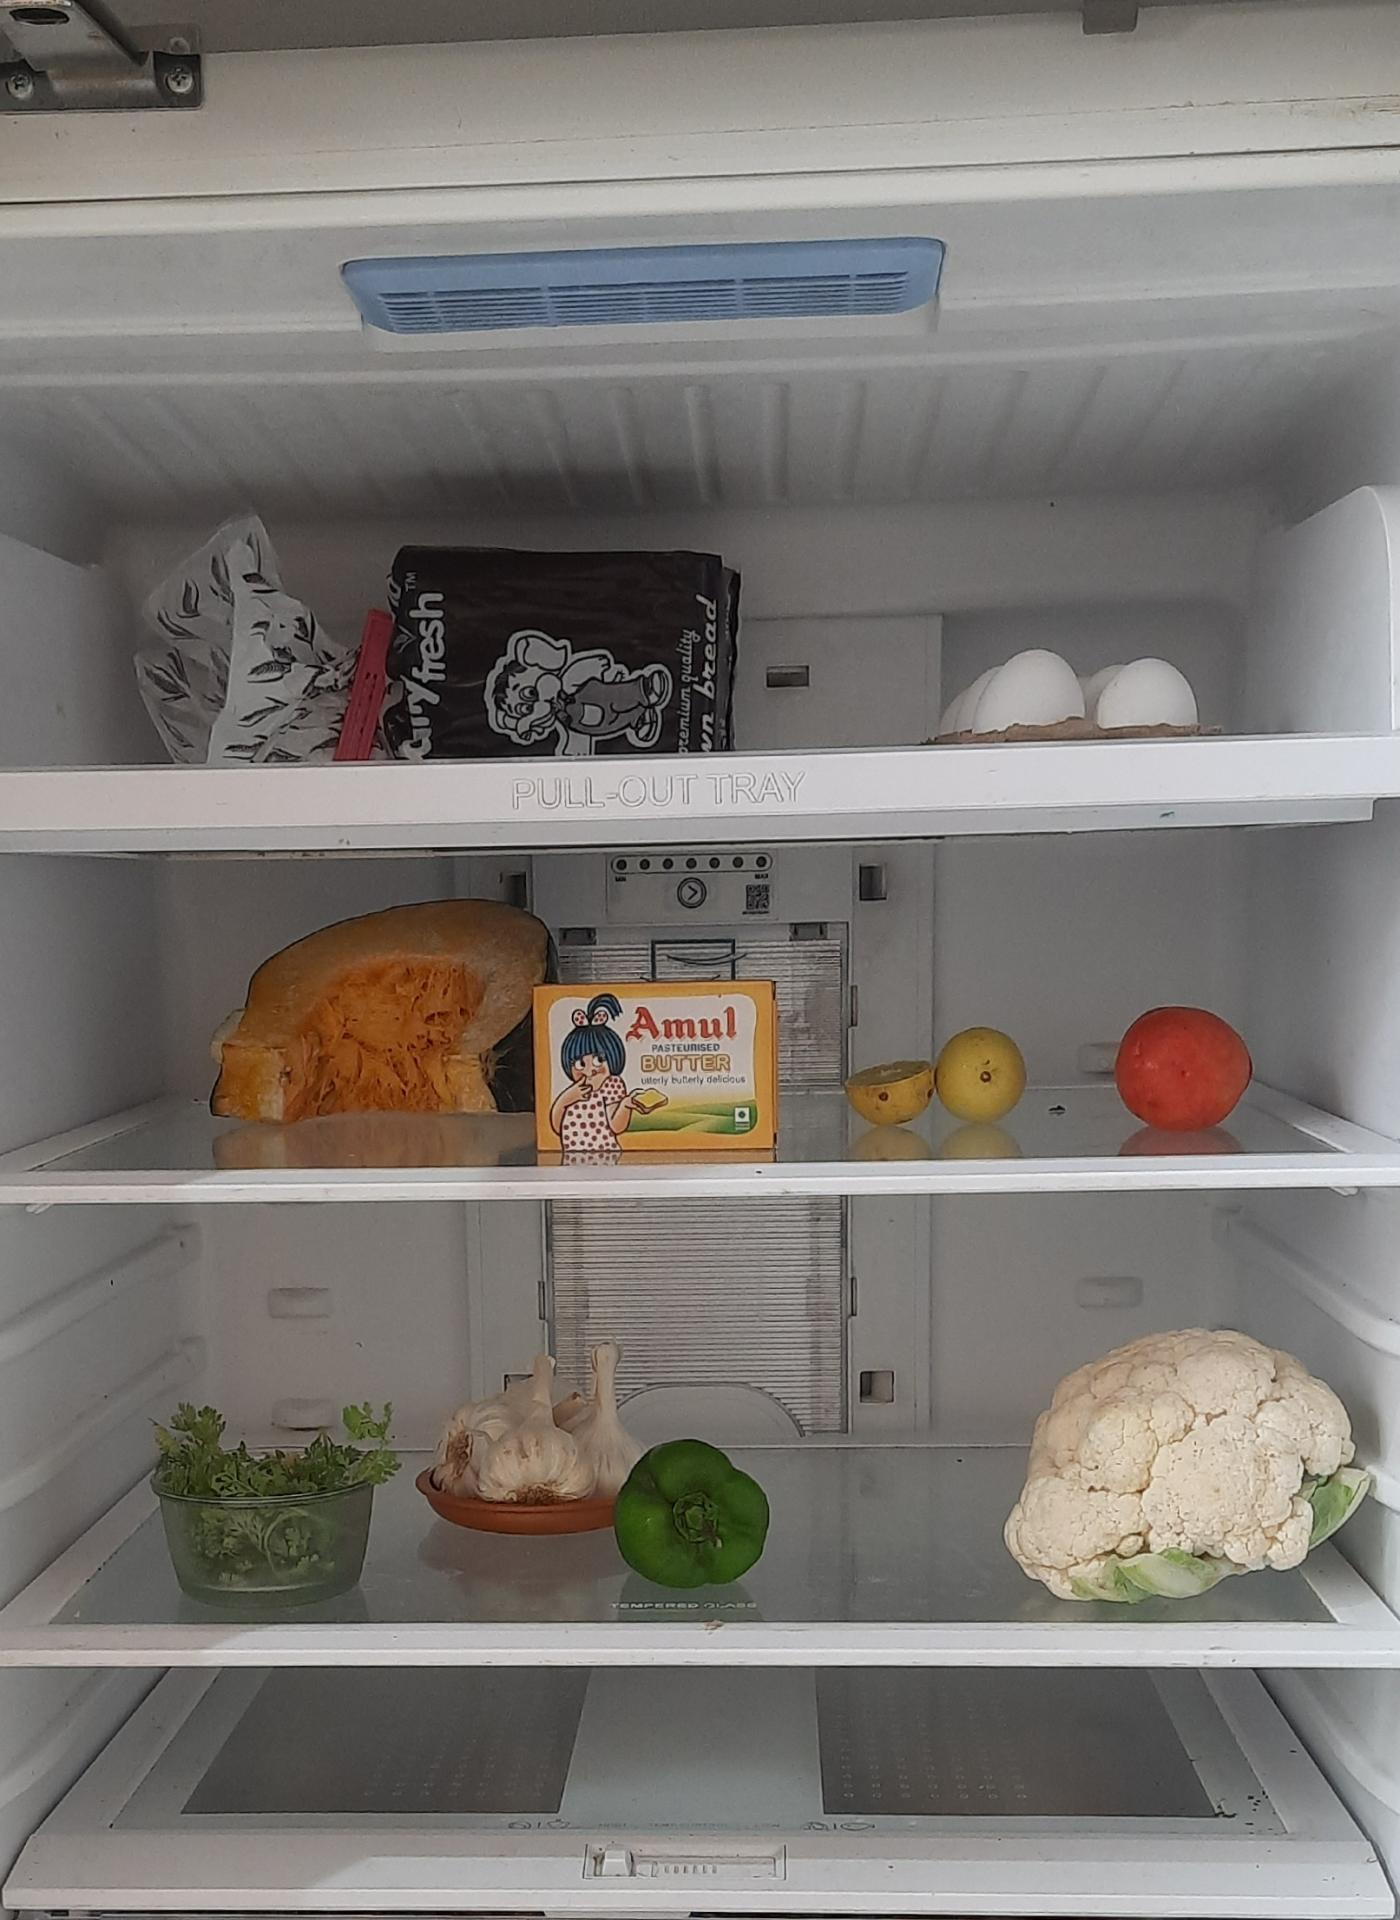bread: (145, 516, 738, 748)
butter: (535, 985, 778, 1158)
capsicum: (611, 1422, 781, 1595)
cauliflower: (1009, 1330, 1366, 1595)
coriander: (161, 1394, 395, 1592)
egg: (935, 651, 1206, 738)
garlic: (435, 1348, 646, 1512)
lemon: (845, 1026, 1026, 1127)
pumpkin: (215, 906, 561, 1127)
tomato: (1114, 1003, 1254, 1130)
